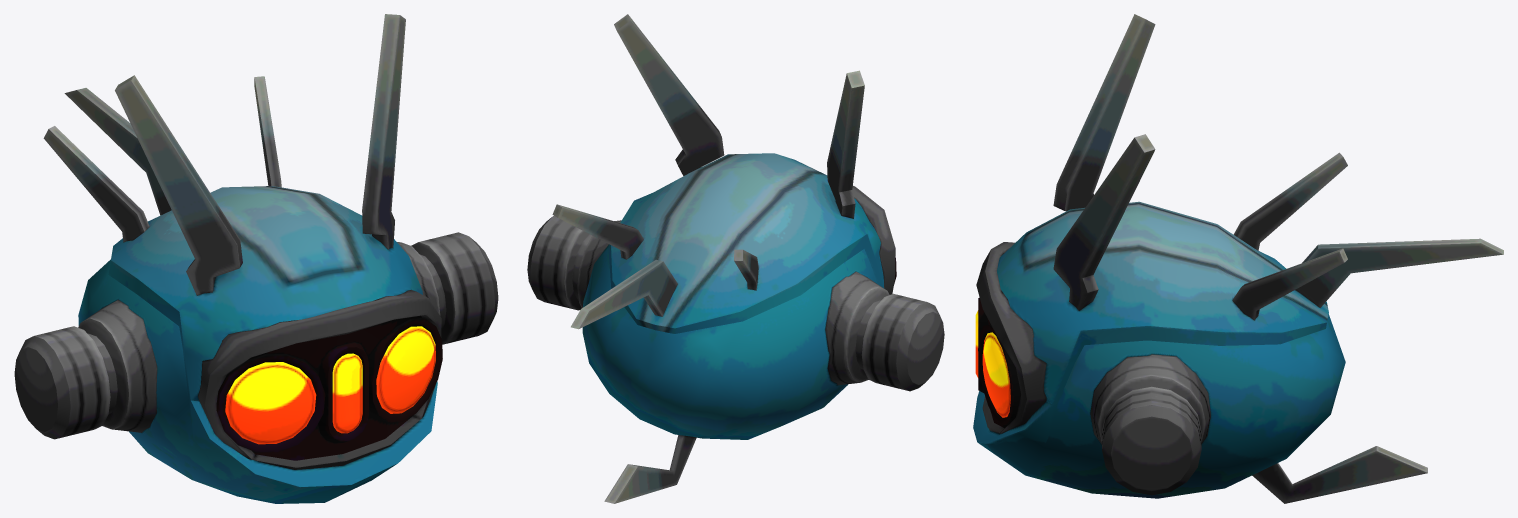
File: enemy-floater1.glb
3 views of the same model, side by side, from view 1: azimuth 30°, elevation 25°; view 2: azimuth 150°, elevation 25°; view 3: azimuth 270°, elevation 25° (orthographic). The views are drawn at different scales.
Parts seen in each view (by area): view 1: enemy-floater1_JOINED; view 2: enemy-floater1_JOINED; view 3: enemy-floater1_JOINED.
Part boxes in pixels (box(x1,y1,x2,y2)): enemy-floater1_JOINED: box(14, 14, 498, 503); enemy-floater1_JOINED: box(527, 14, 944, 503); enemy-floater1_JOINED: box(973, 14, 1503, 503).
Size of the model in its own units: 0.7944 by 0.7834 by 0.8819.
Materials: 1 (1 with a texture image).
